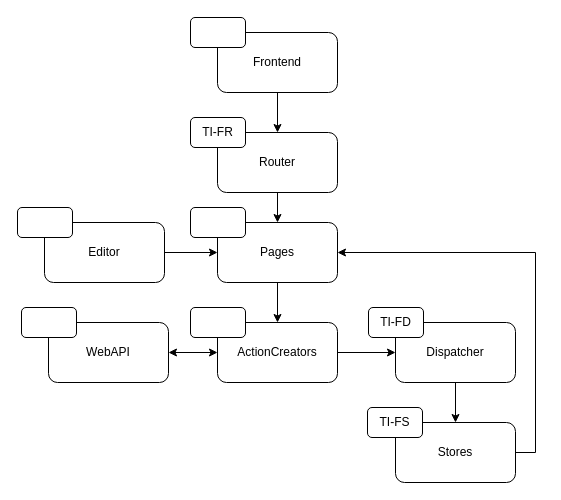
This 561x500 diagram has some shape labels left out. Here are the shapes that lost their labels. From the top down, the centre of each, then its label:
the point at 218,32: TI-F
the point at 44,222: TI-FE
the point at 218,222: TI-FP
the point at 48,322: TI-FW
the point at 218,322: TI-FA
